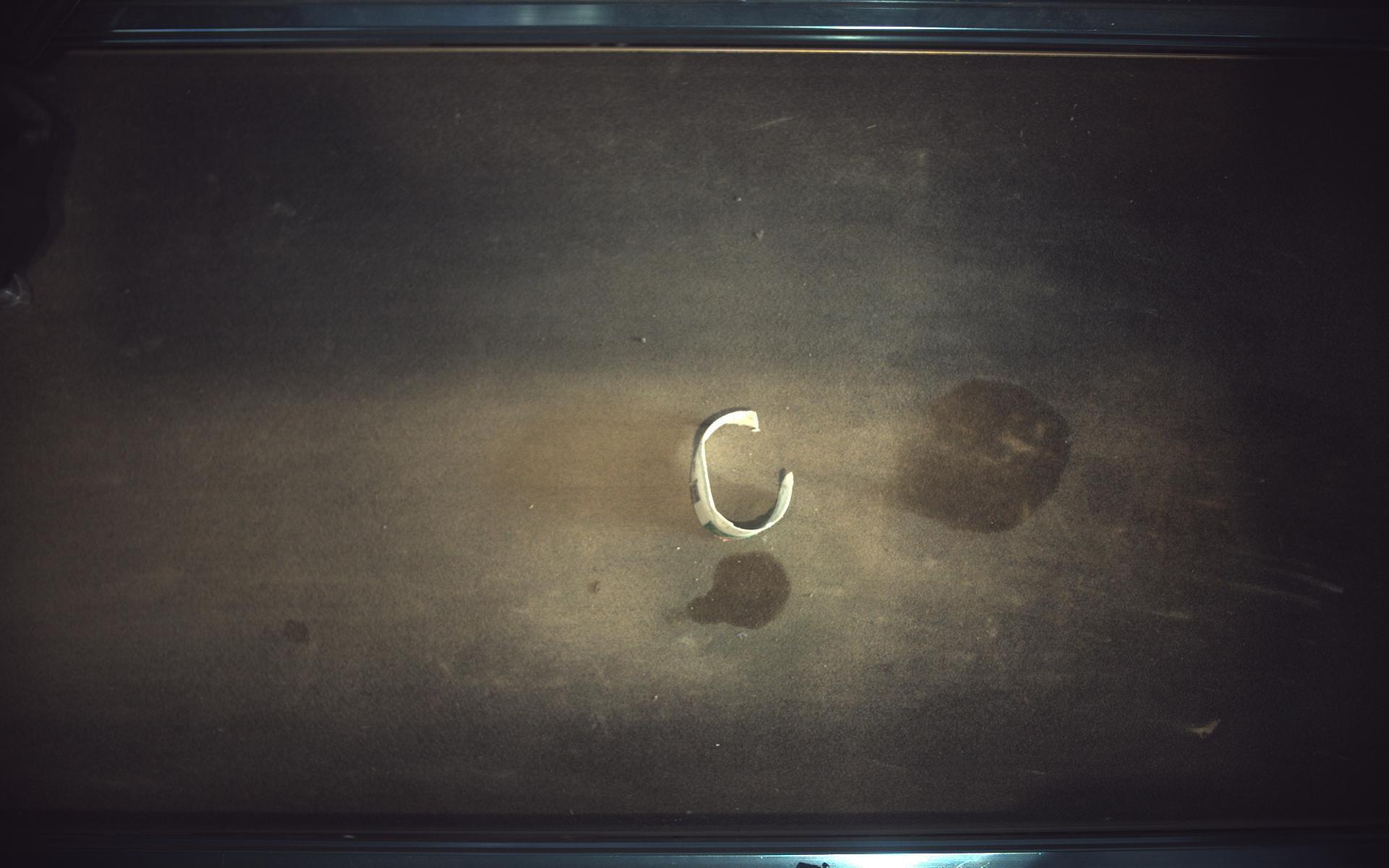plastic: (691, 409, 795, 541)
